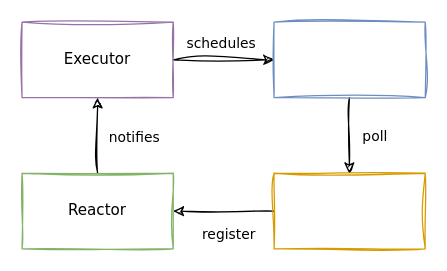
This 447x271 diagram has some shape labels left out. Here are the shapes that lost their labels. From the top down, the centre of each, then its label:
At pixel 349 59: "Tasks".
At pixel 349 210: "Futures".
